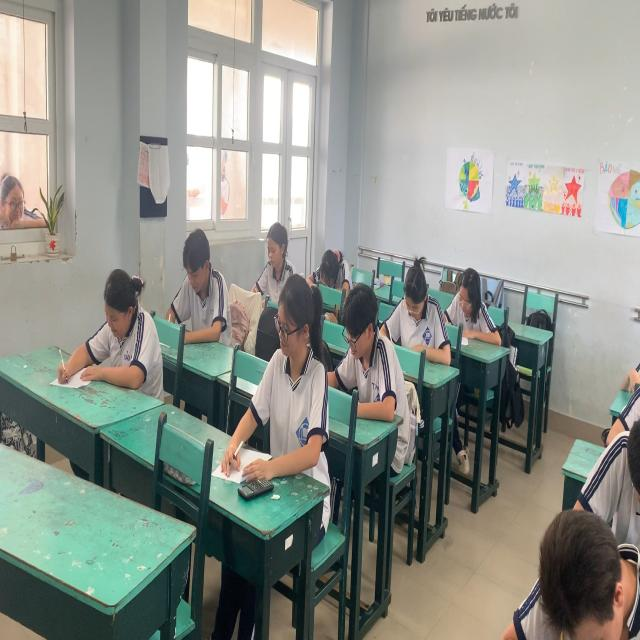not_cheating: (526, 496, 638, 636), (260, 267, 326, 480), (89, 257, 160, 398), (166, 215, 227, 341), (332, 283, 394, 404), (449, 251, 492, 360), (397, 253, 440, 347), (252, 216, 292, 294), (316, 229, 346, 296)
